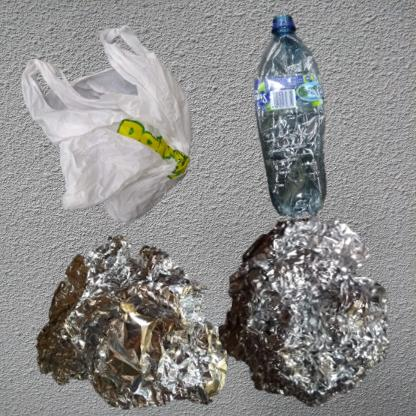aluminio: (10, 213, 252, 416), (213, 213, 392, 412)
bolsa: (10, 10, 242, 269)
botella: (213, 10, 404, 265)
